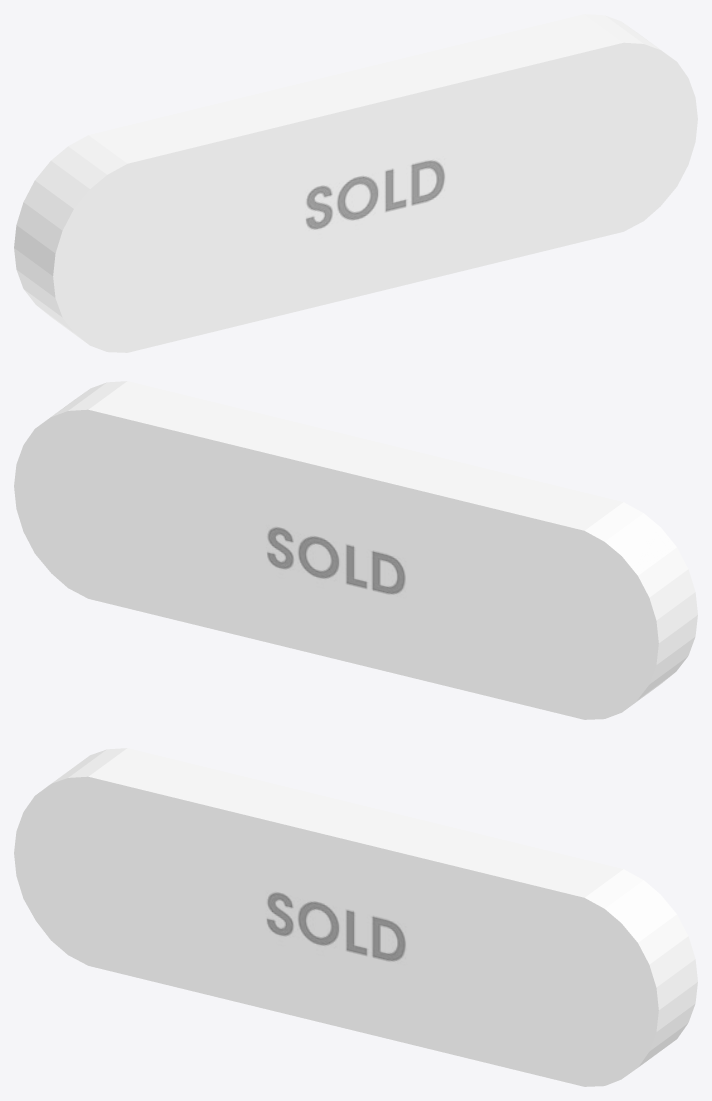
The model's file is SU00113_Bid_Button_Sold_v01.glb.
The picture shows the model from 3 angles, top to bottom: view 1: azimuth 30°, elevation 25°; view 2: azimuth 150°, elevation 25°; view 3: azimuth 330°, elevation 25°; orthographic projection.
Parts seen in each view (by area): view 1: BidButtonSold; view 2: BidButtonSold; view 3: BidButtonSold.
Boxes of the visible parts, x1,y1,x2,y2 form: BidButtonSold: (14, 14, 697, 352); BidButtonSold: (14, 381, 697, 719); BidButtonSold: (14, 748, 697, 1086).
Size of the model in its own units: 4.96 by 1.39 by 0.5215.
Materials: 1 (1 with a texture image).
